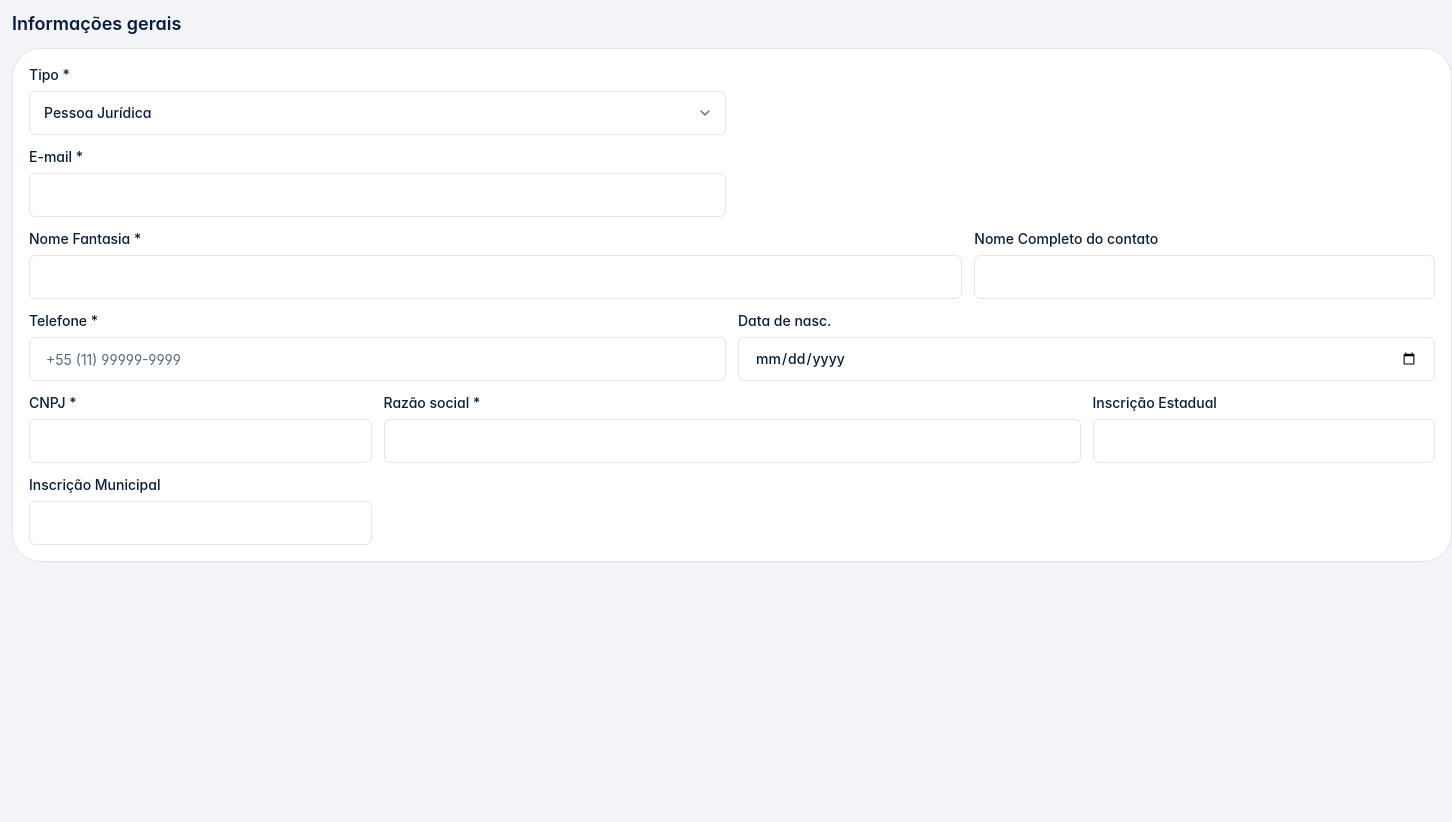
Test: aviso de identidade no preenchimento › consulta documento completo e mantém a máscara PJ
The width and height of the screenshot is (1452, 822).
Type "11.222.333/0001-81" into the field labelled "CNPJ *" at (200, 441), box top-left (29, 419), bottom-right (372, 463)
Wait 350 ms
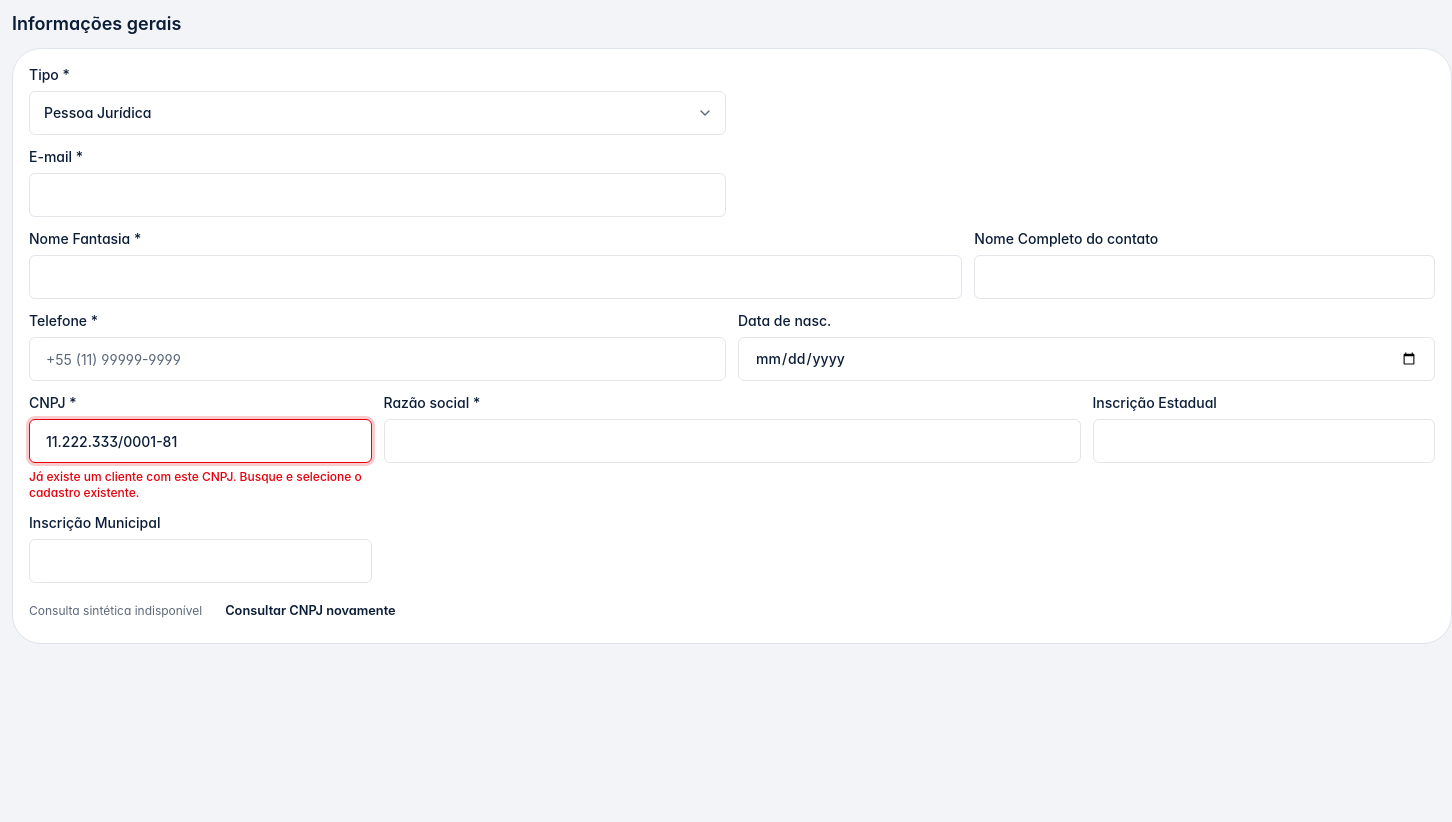
Result: the message "Já existe um cliente com este CNPJ. Busque e selecione o cadastro existente." is shown at top-left (29, 469), bottom-right (372, 501)
